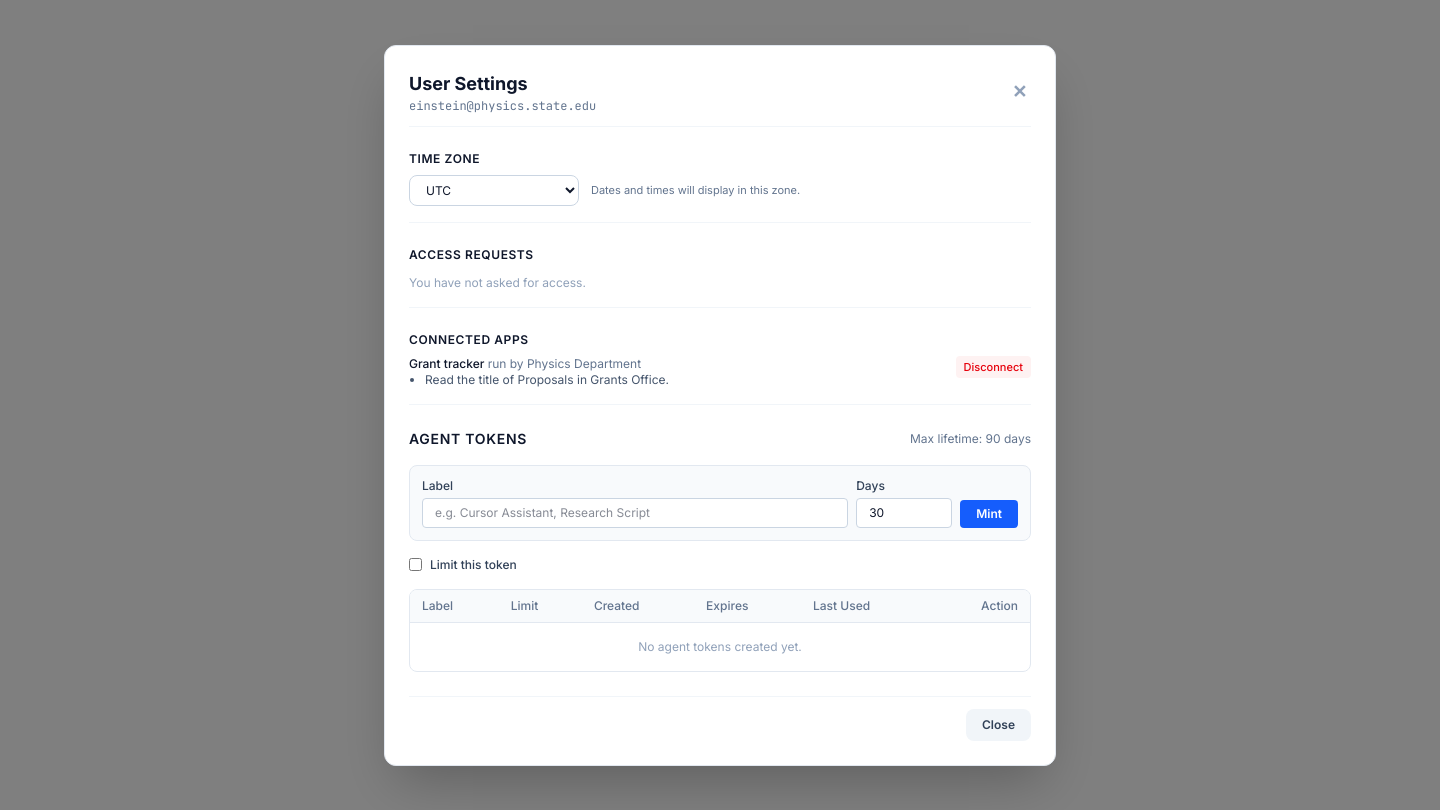
Test case: External apps phase 2: connected apps › lists the apps a person agreed to and disconnects one
Expected: the text "Grant tracker" is shown, 409,356 -> 484,370
Expected: the element with test id "connected-apps" shows "run by Physics Department", 409,332 -> 1031,404
Click the button "Disconnect" at (993, 367), box 956,356 -> 1031,378
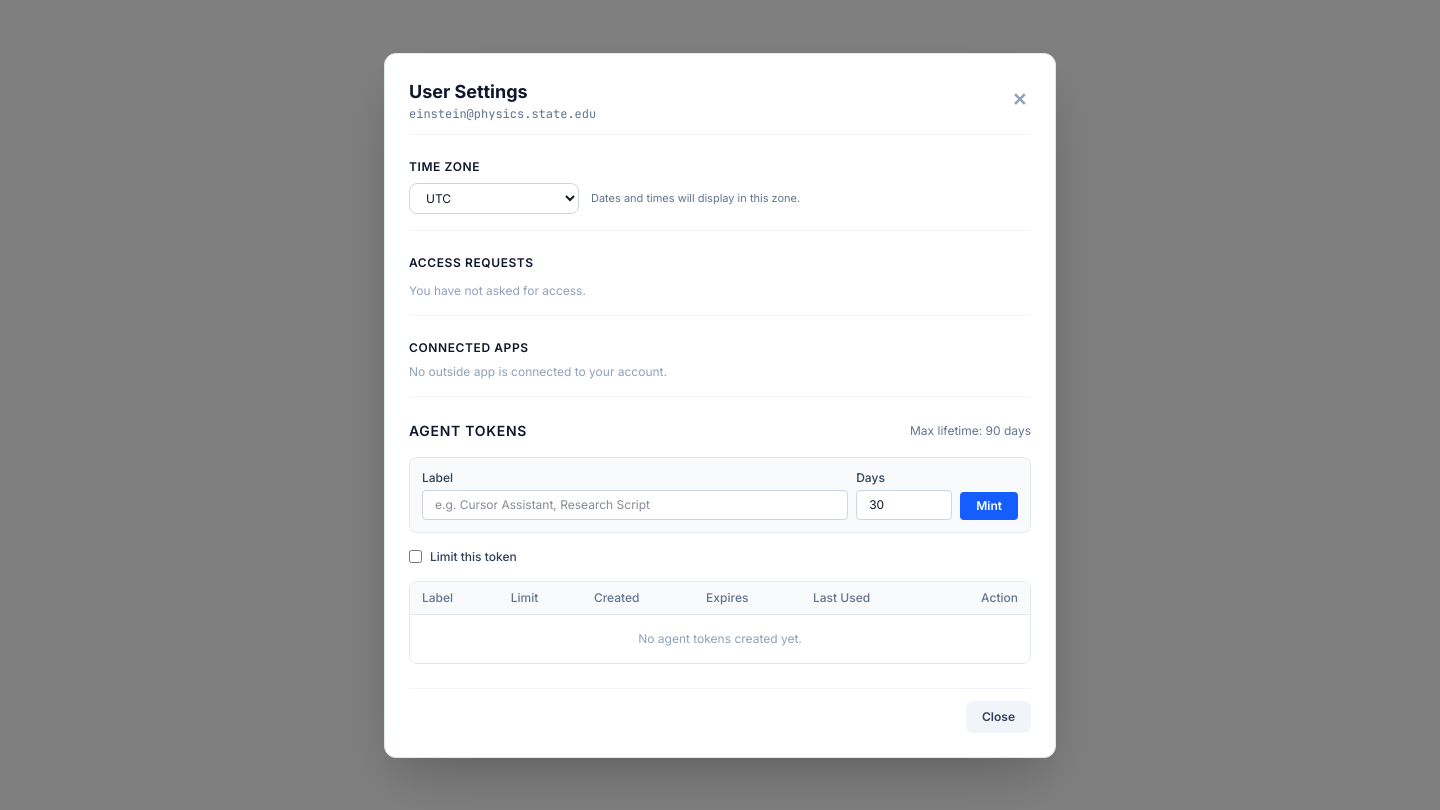
Expected: the text "No outside app is connected to your account." is shown, 409,364 -> 667,378
